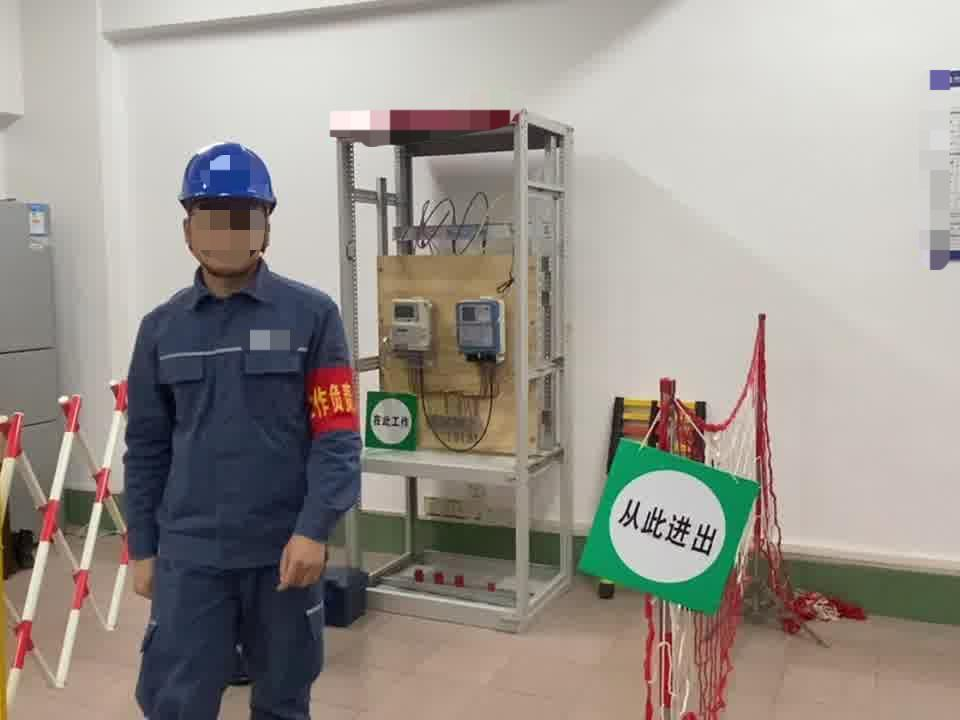halt: (176, 143, 286, 290)
